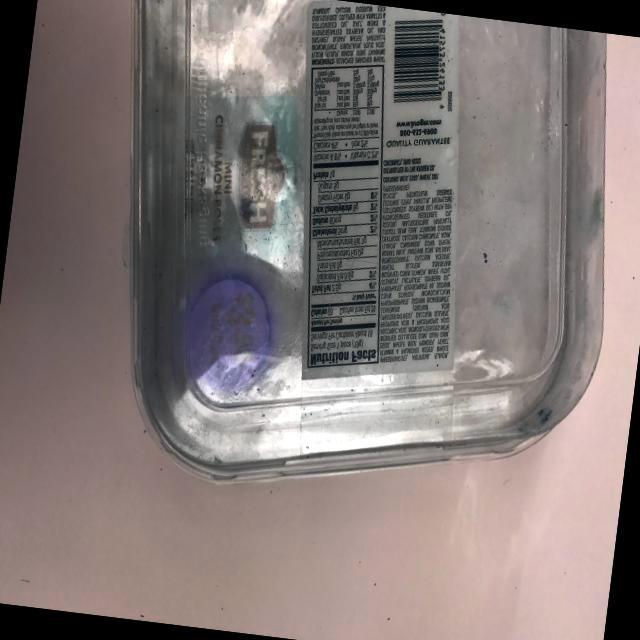plastic: (71, 0, 639, 508)
